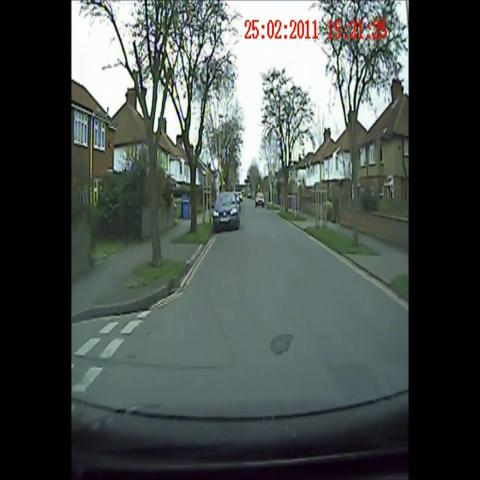pothole: (262, 326, 298, 368)
